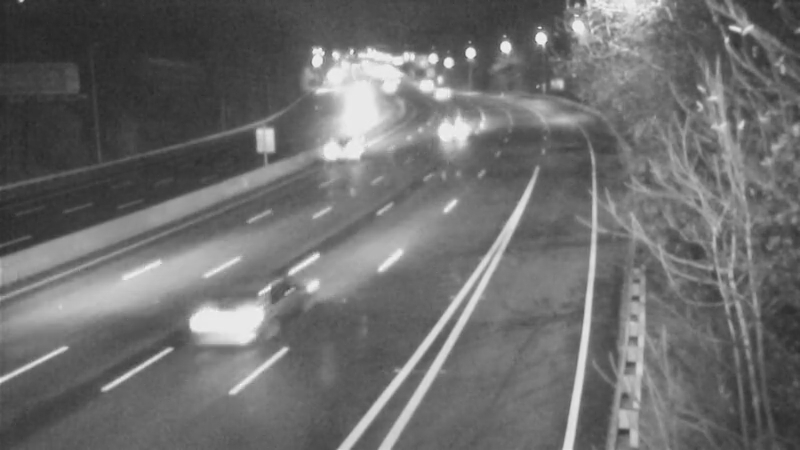vehicle: (169, 260, 279, 370), (403, 64, 453, 114), (419, 68, 469, 118), (429, 103, 479, 153), (308, 122, 358, 172)
